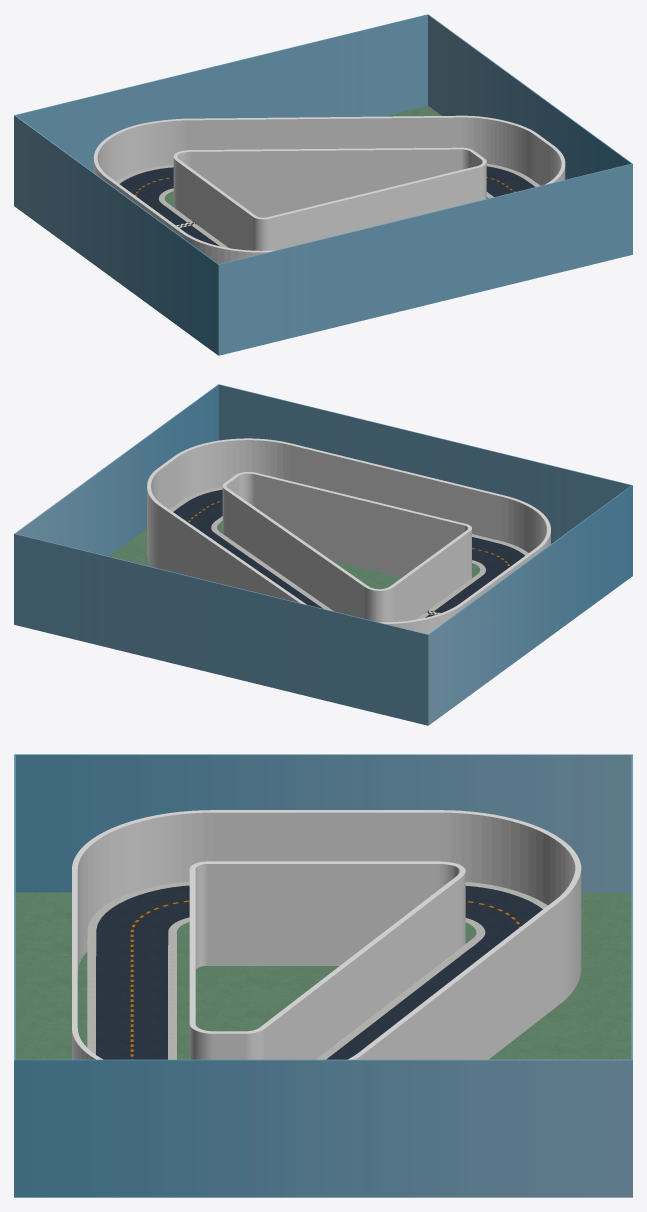
3 renders of one model, top to bottom at view 1: azimuth 30°, elevation 25°; view 2: azimuth 150°, elevation 25°; view 3: azimuth 270°, elevation 25°, orthographic. The views are drawn at different scales.
Parts seen in each view (by area): view 1: wall, inner_walls, outer_walls, road; view 2: wall, inner_walls, outer_walls, road, field, il; view 3: wall, outer_walls, inner_walls, field, road, il, ol.
Part boxes in pixels (x1,y1,x2,y2): wall: (14,14,632,355); inner_walls: (173,147,486,250); outer_walls: (93,115,565,264); road: (119,166,534,246); wall: (14,384,632,725); inner_walls: (222,472,471,622); outer_walls: (147,438,550,634); road: (173,489,524,617); field: (109,521,480,589); il: (211,516,485,619); wall: (14,754,632,1197); outer_walls: (72,810,581,1059); inner_walls: (189,861,465,1059); field: (15,892,631,1059); road: (96,885,542,1059); il: (168,917,485,1059); ol: (87,881,547,1054).
Size of the model in its own units: 30.66 by 26.23 by 6.42.
7 materials, 7 textured.
